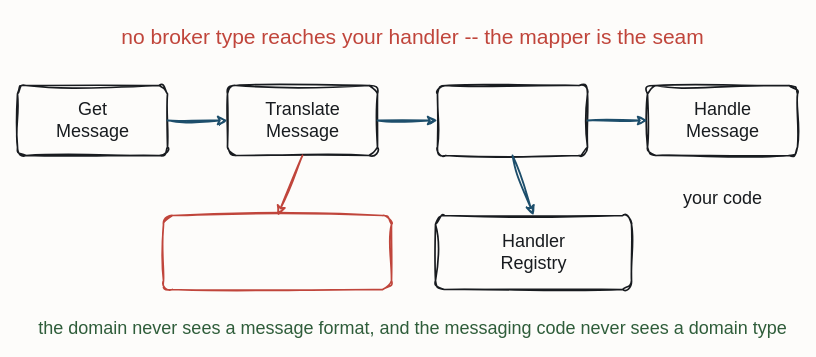
Image size: 816x357. Some labels were removed from this diagram. The centre of each missing label's shape, as x and y in pixels:
"Dispatch Message" goes at (512,120).
"Message Mapper Registry" goes at (277,252).
